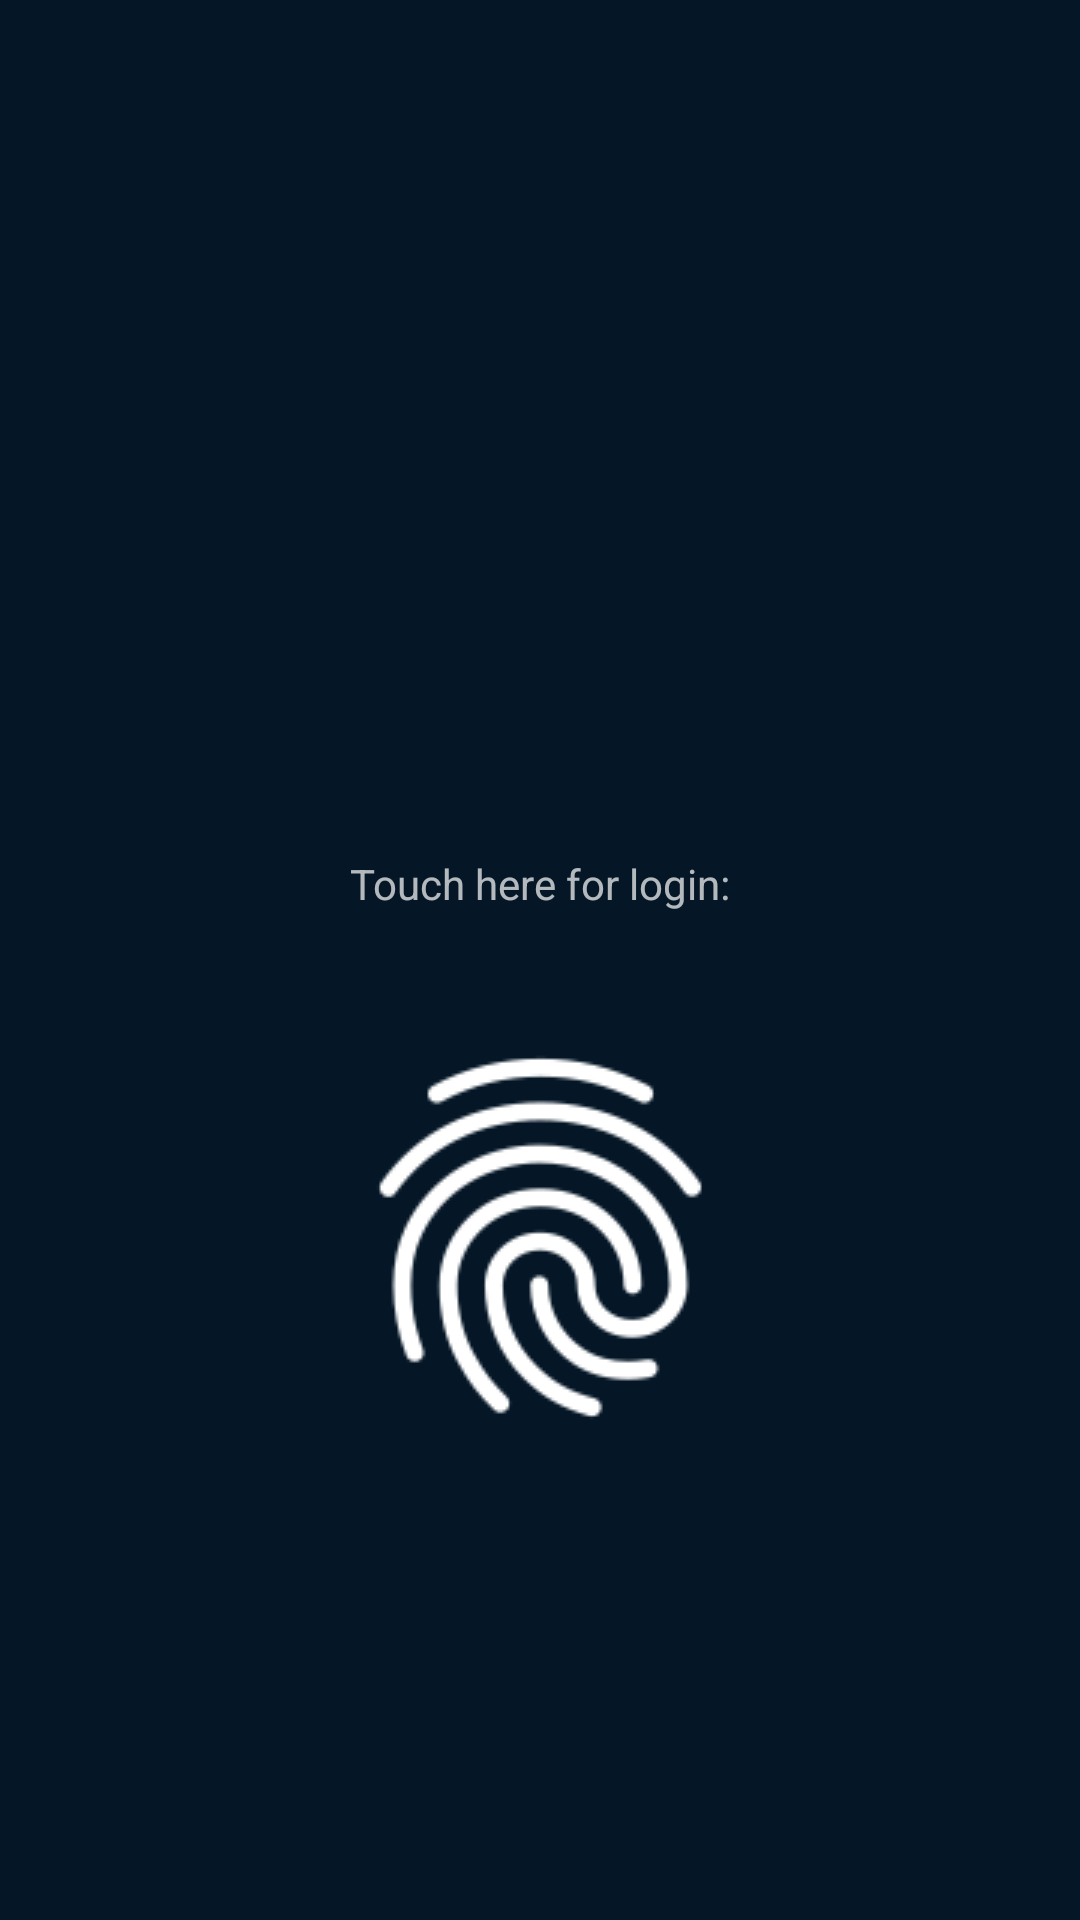

Locate icon controls on the screen. Image size 1080w x 1920h, boxes as (x1, y1, x2, y2).
fingerprint: (379, 1058, 702, 1417)
